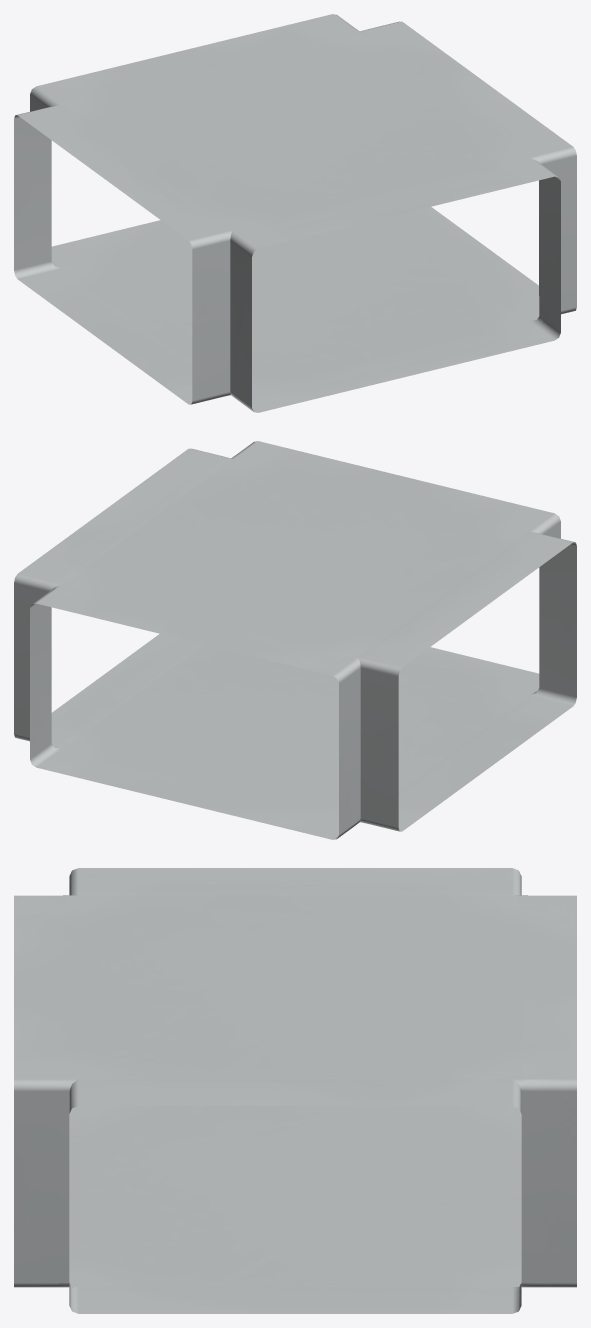
Rendered from cross.gltf.
3 views of the same model, one above another, from view 1: azimuth 30°, elevation 25°; view 2: azimuth 150°, elevation 25°; view 3: azimuth 270°, elevation 25° (orthographic). The views are drawn at different scales.
Parts seen in each view (by area): view 1: cross; view 2: cross; view 3: cross.
Part boxes in pixels (x1=…): cross: x1=14, y1=14, x2=576, y2=412; cross: x1=14, y1=441, x2=576, y2=839; cross: x1=14, y1=868, x2=576, y2=1313.
Size of the model in its own units: 0.9422 by 0.385 by 0.9422.
1 material, 1 textured.
